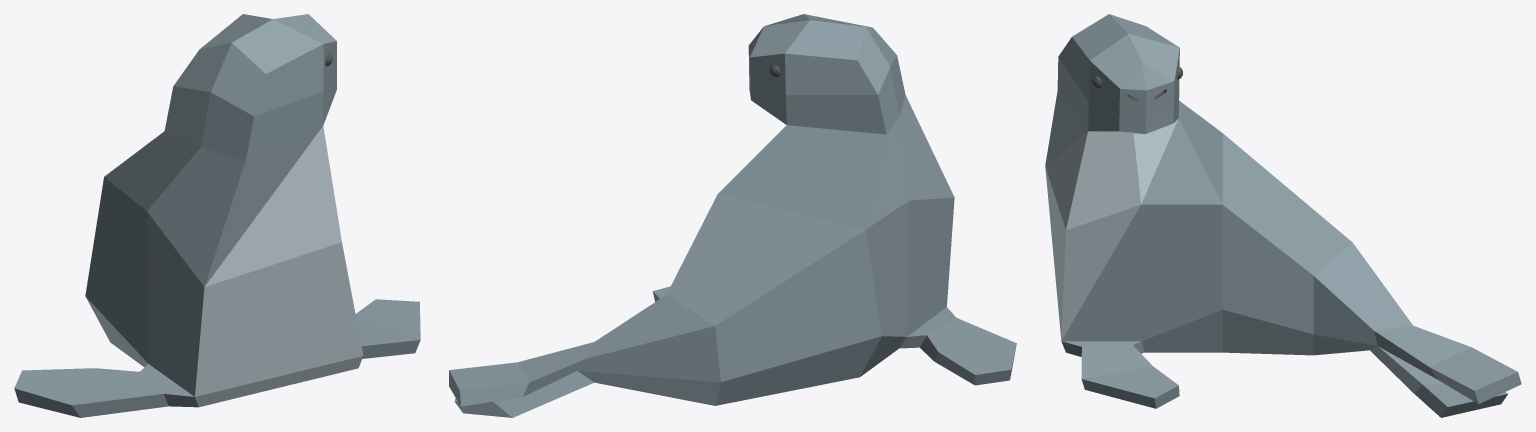
The model's file is Seal.glb.
3 renders of one model, left to right at view 1: azimuth 30°, elevation 25°; view 2: azimuth 150°, elevation 25°; view 3: azimuth 270°, elevation 25°, orthographic. The views are drawn at different scales.
Visible parts, largest first — view 1: Seal_Cube.032; view 2: Seal_Cube.032; view 3: Seal_Cube.032.
Part boxes in pixels (<box>): Seal_Cube.032: <box>14,14,420,417</box>; Seal_Cube.032: <box>449,14,1016,417</box>; Seal_Cube.032: <box>1045,14,1521,417</box>.
Bounding box in the file's own units: 13.98 × 10.21 × 14.36.
